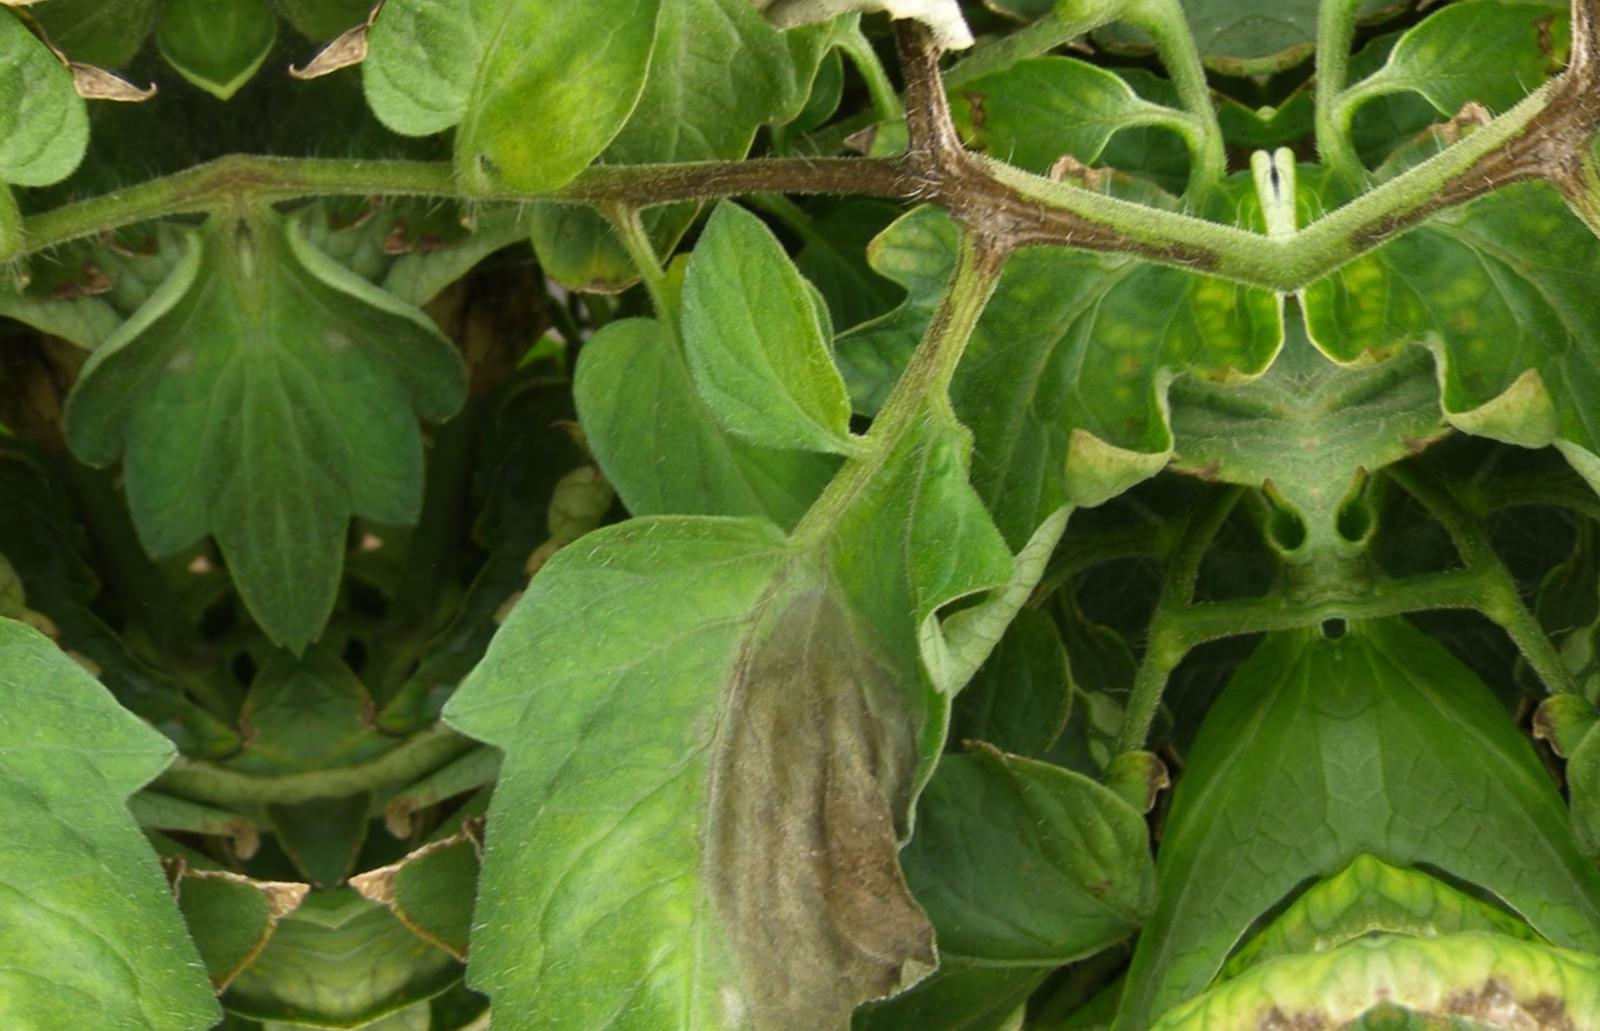Tomato mold leaf: (400, 451, 1103, 1031), (652, 176, 879, 487)
